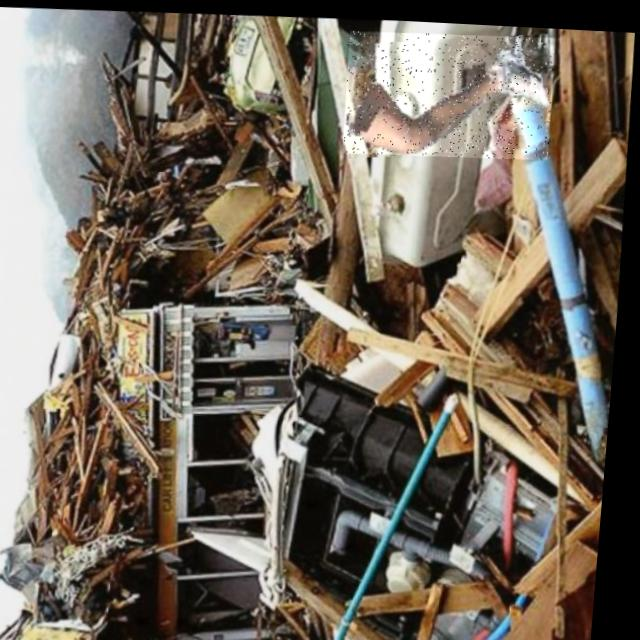Person in Rubble: (342, 22, 557, 156)
